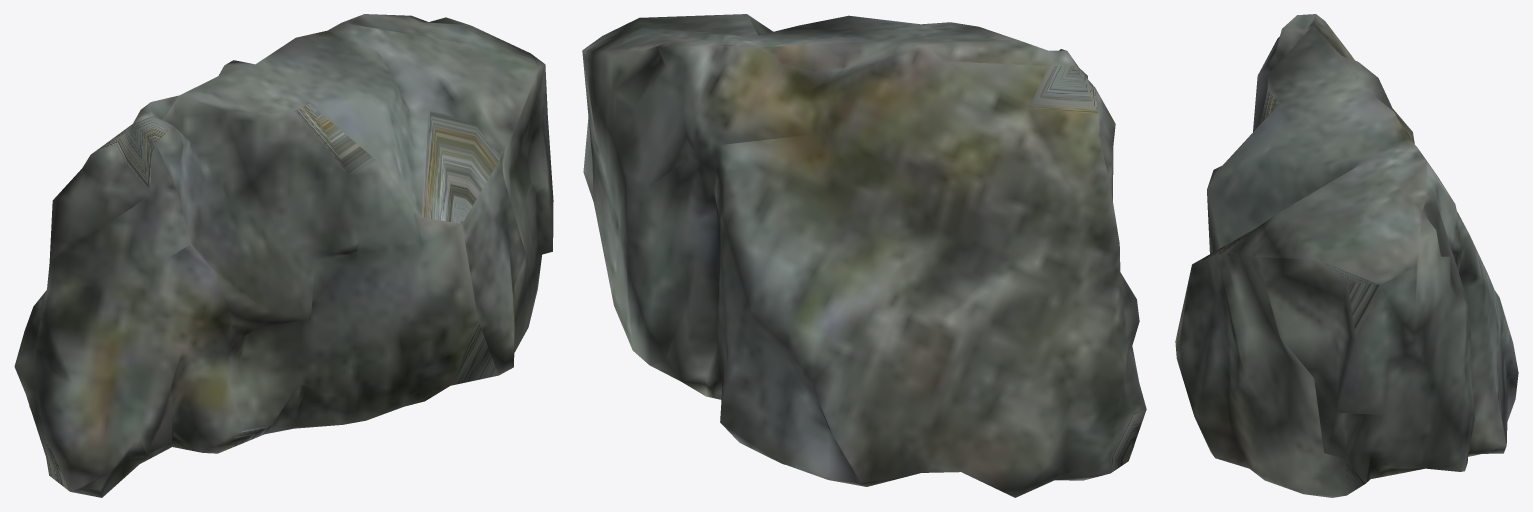
The model's file is bw-cliff-7.lod1.glb.
The picture shows the model from 3 angles, left to right: view 1: azimuth 30°, elevation 25°; view 2: azimuth 150°, elevation 25°; view 3: azimuth 270°, elevation 25°; orthographic projection. The views are drawn at different scales.
Parts seen in each view (by area): view 1: Object_2; view 2: Object_2; view 3: Object_2.
Part boxes in pixels (bbox=[...]): Object_2: bbox=[14, 14, 553, 497]; Object_2: bbox=[582, 14, 1146, 497]; Object_2: bbox=[1175, 14, 1518, 497].
Bounding box in the file's own units: 15.97 × 10.97 × 9.24.
1 material, 1 textured.
